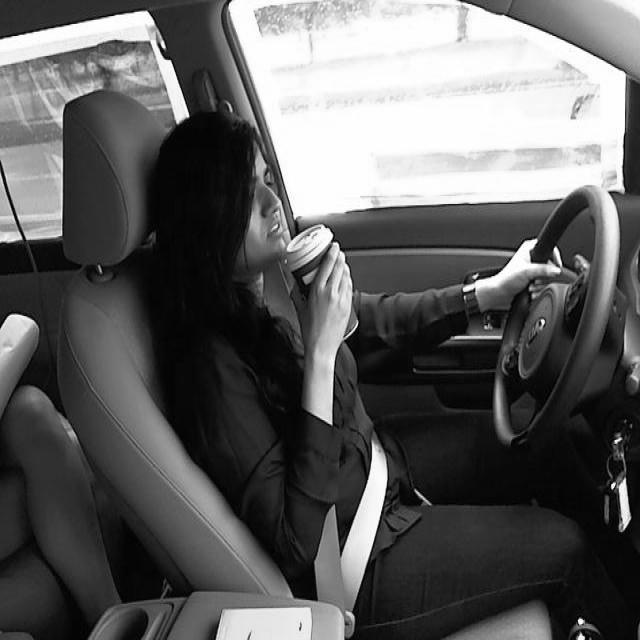Drinking: (286, 227, 357, 344)
